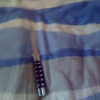knife: (30, 28, 46, 97)
